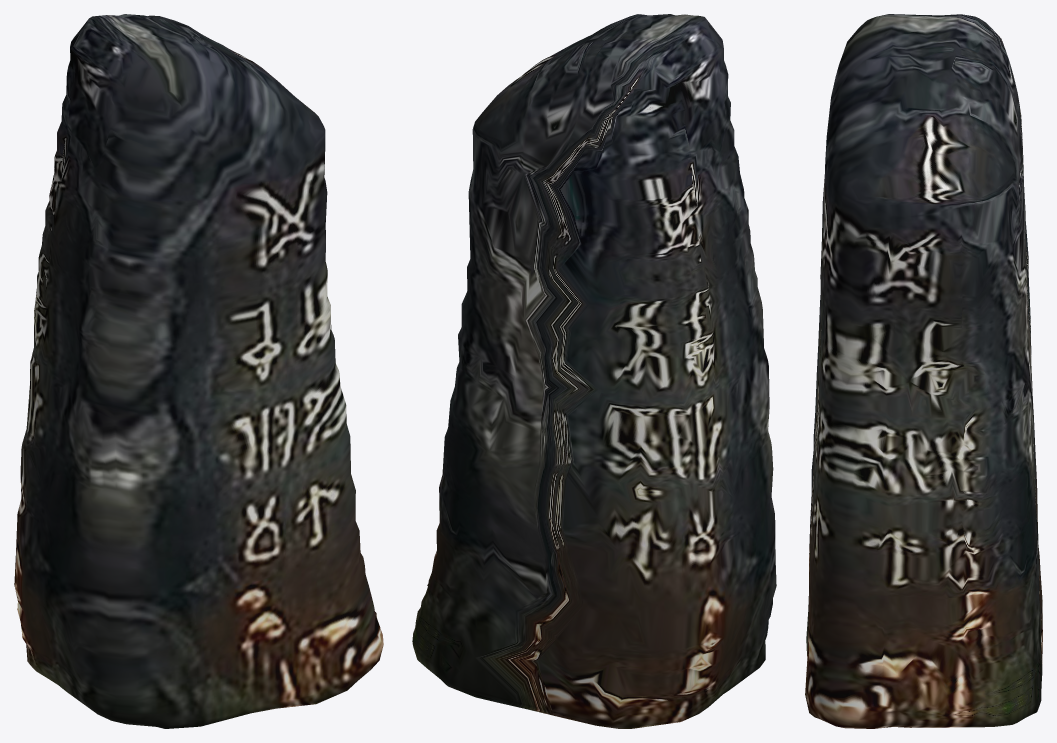
The model's file is rune_stone.glb.
3 renders of one model, left to right at view 1: azimuth 30°, elevation 25°; view 2: azimuth 150°, elevation 25°; view 3: azimuth 270°, elevation 25°, orthographic. The views are drawn at different scales.
Parts seen in each view (by area): view 1: rune_stone; view 2: rune_stone; view 3: rune_stone.
Part boxes in pixels (x1=…): rune_stone: x1=14, y1=14, x2=383, y2=728; rune_stone: x1=412, y1=14, x2=776, y2=728; rune_stone: x1=805, y1=14, x2=1042, y2=728.
Bounding box in the file's own units: 0.4885 × 1 × 0.3421.
Materials: 1 (1 with a texture image).
